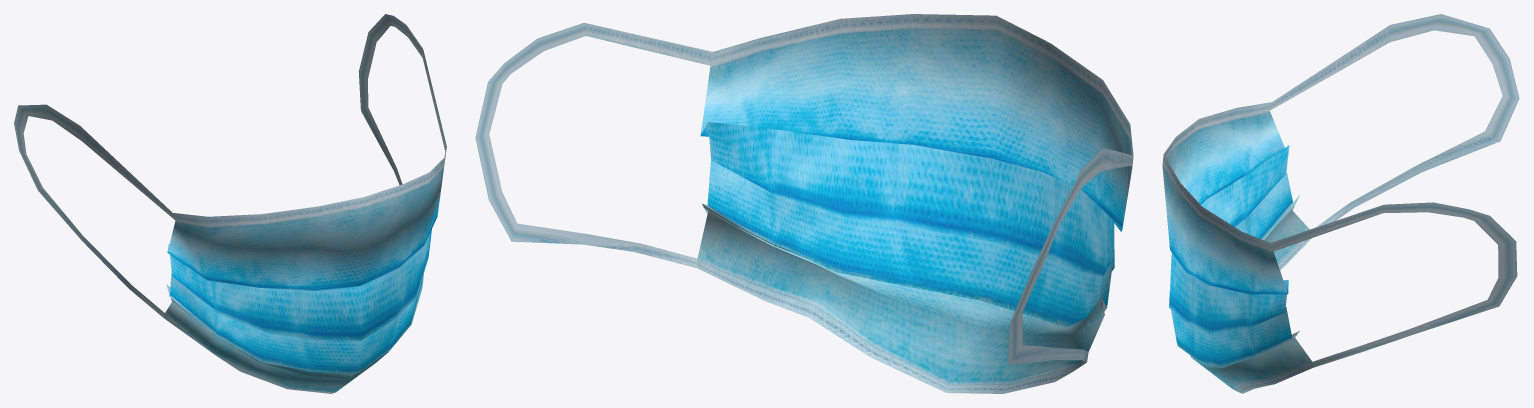
File: mascarilla.fbx
3 views of the same model, side by side, from view 1: azimuth 30°, elevation 25°; view 2: azimuth 150°, elevation 25°; view 3: azimuth 270°, elevation 25° (orthographic). The views are drawn at different scales.
Visible parts, largest first — view 1: Plane; view 2: Plane; view 3: Plane.
Part boxes in pixels (left/top/right/bottom): Plane: left=14, top=14, right=446, bottom=393; Plane: left=475, top=14, right=1133, bottom=393; Plane: left=1162, top=14, right=1519, bottom=393.
Bounding box in the file's own units: 30.28 × 20.7 × 24.14.
